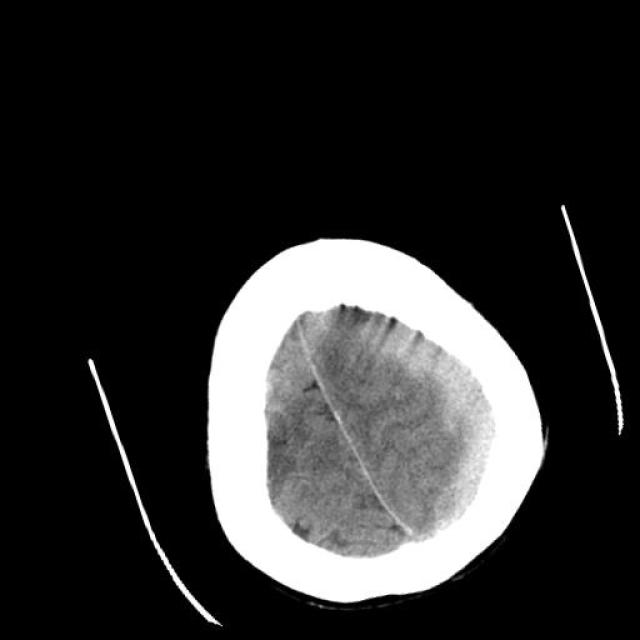Subdural: (326, 268, 540, 542)
